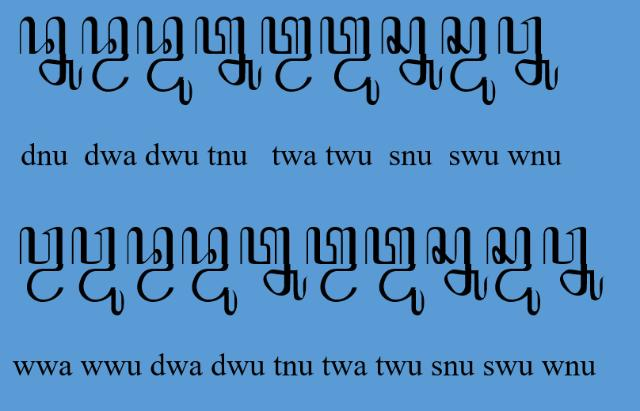dnu: (19, 17, 83, 92)
dw: (126, 227, 176, 304), (81, 16, 129, 92)
dwu: (137, 15, 193, 107), (181, 226, 237, 318)
snu: (426, 227, 488, 302), (381, 16, 443, 90)
swu: (442, 16, 496, 106), (486, 226, 540, 316)
tnu: (194, 16, 262, 92), (239, 227, 307, 302)
tw: (305, 227, 359, 304), (261, 16, 313, 92)
twu: (364, 226, 424, 318), (319, 16, 379, 106)
wnu: (498, 17, 560, 92), (544, 226, 604, 302)
ww: (20, 227, 64, 304)
wwu: (71, 226, 125, 316)
